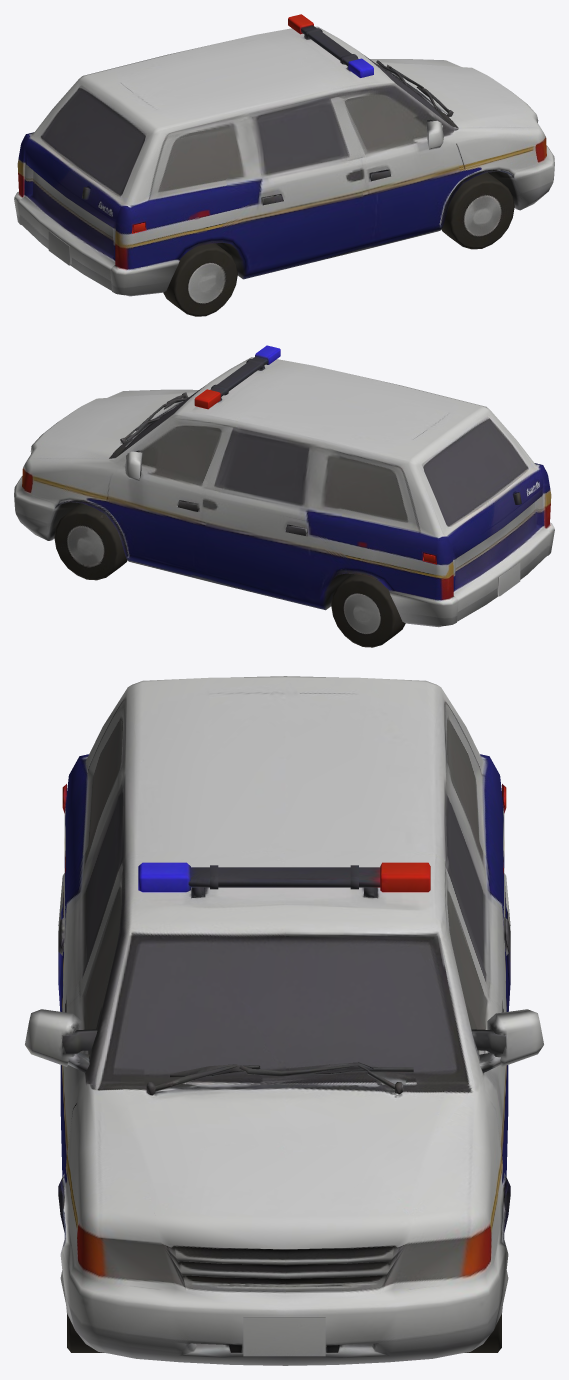
Rendered from patrol.glb.
3 views of the same model, one above another, from view 1: azimuth 30°, elevation 25°; view 2: azimuth 150°, elevation 25°; view 3: azimuth 270°, elevation 25° (orthographic). The views are drawn at different scales.
Parts seen in each view (by area): view 1: tripo_node_3e18e135-29f2-4c65-a0d0-8d3f69f72e2e; view 2: tripo_node_3e18e135-29f2-4c65-a0d0-8d3f69f72e2e; view 3: tripo_node_3e18e135-29f2-4c65-a0d0-8d3f69f72e2e.
Part boxes in pixels (box(x1,y1,x2,y2)): tripo_node_3e18e135-29f2-4c65-a0d0-8d3f69f72e2e: box(14, 14, 554, 316); tripo_node_3e18e135-29f2-4c65-a0d0-8d3f69f72e2e: box(14, 345, 554, 647); tripo_node_3e18e135-29f2-4c65-a0d0-8d3f69f72e2e: box(25, 676, 543, 1365).
Bounding box in the file's own units: 0.998 × 0.3926 × 0.4824.
1 material, 1 textured.
